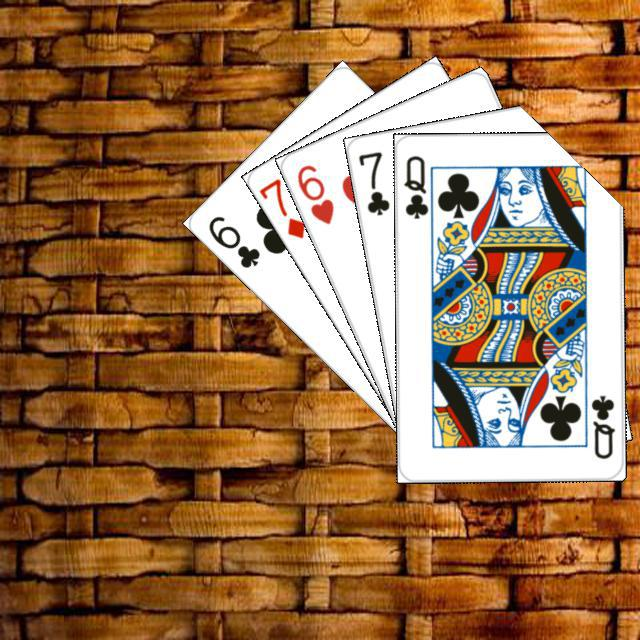6c: (203, 210, 262, 270)
6h: (292, 159, 336, 227)
7c: (353, 146, 392, 218)
7d: (255, 173, 307, 241)
Qc: (399, 150, 437, 227), (587, 390, 617, 460)
